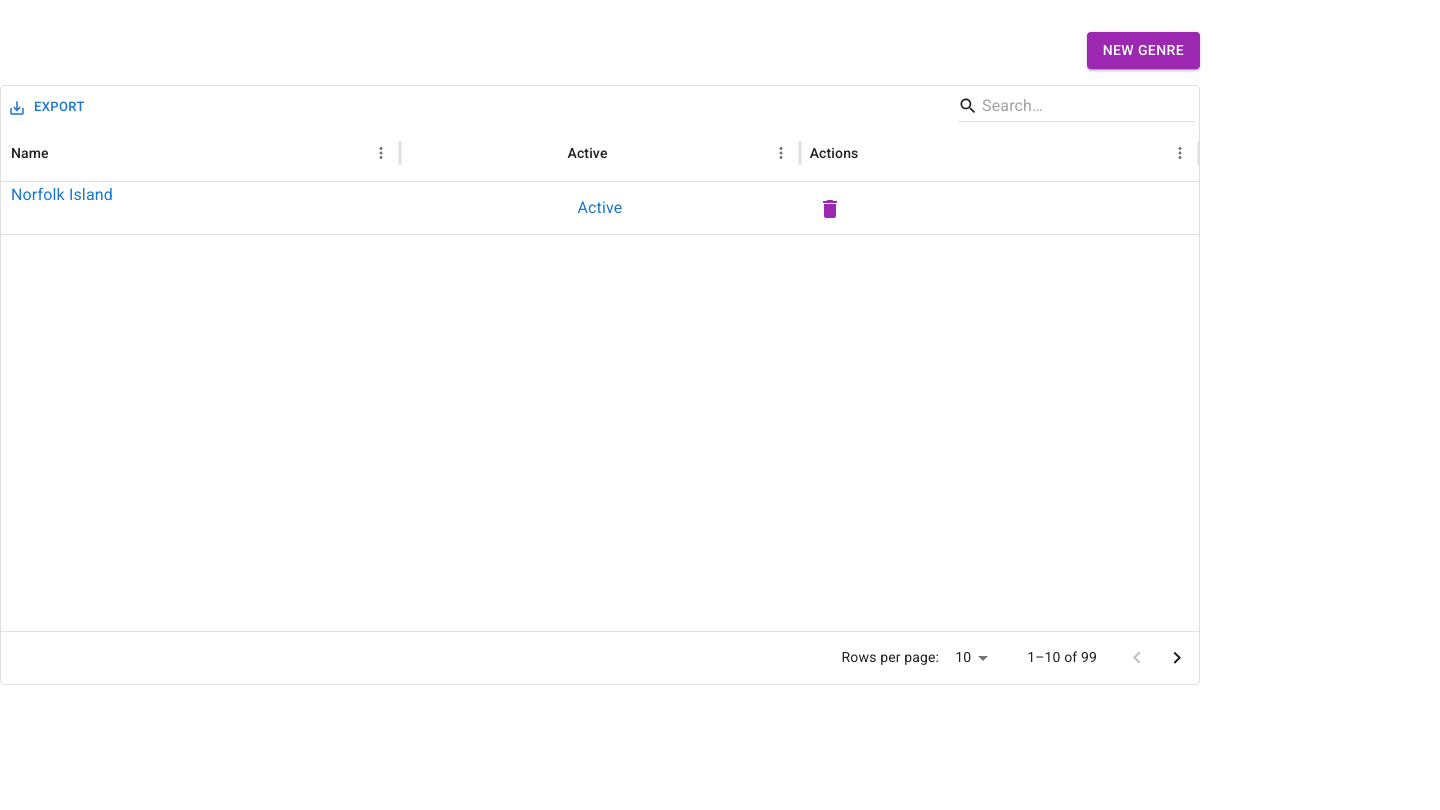
Test case: GenreList › should handle Delete Genre success
The width and height of the screenshot is (1440, 810).
Expected: the text "Norfolk Island" is shown, x1=11 y1=184 x2=113 y2=204
Step 1. Click the button with test id "DeleteIcon" → x=830, y=209, box x1=810 y1=189 x2=850 y2=229
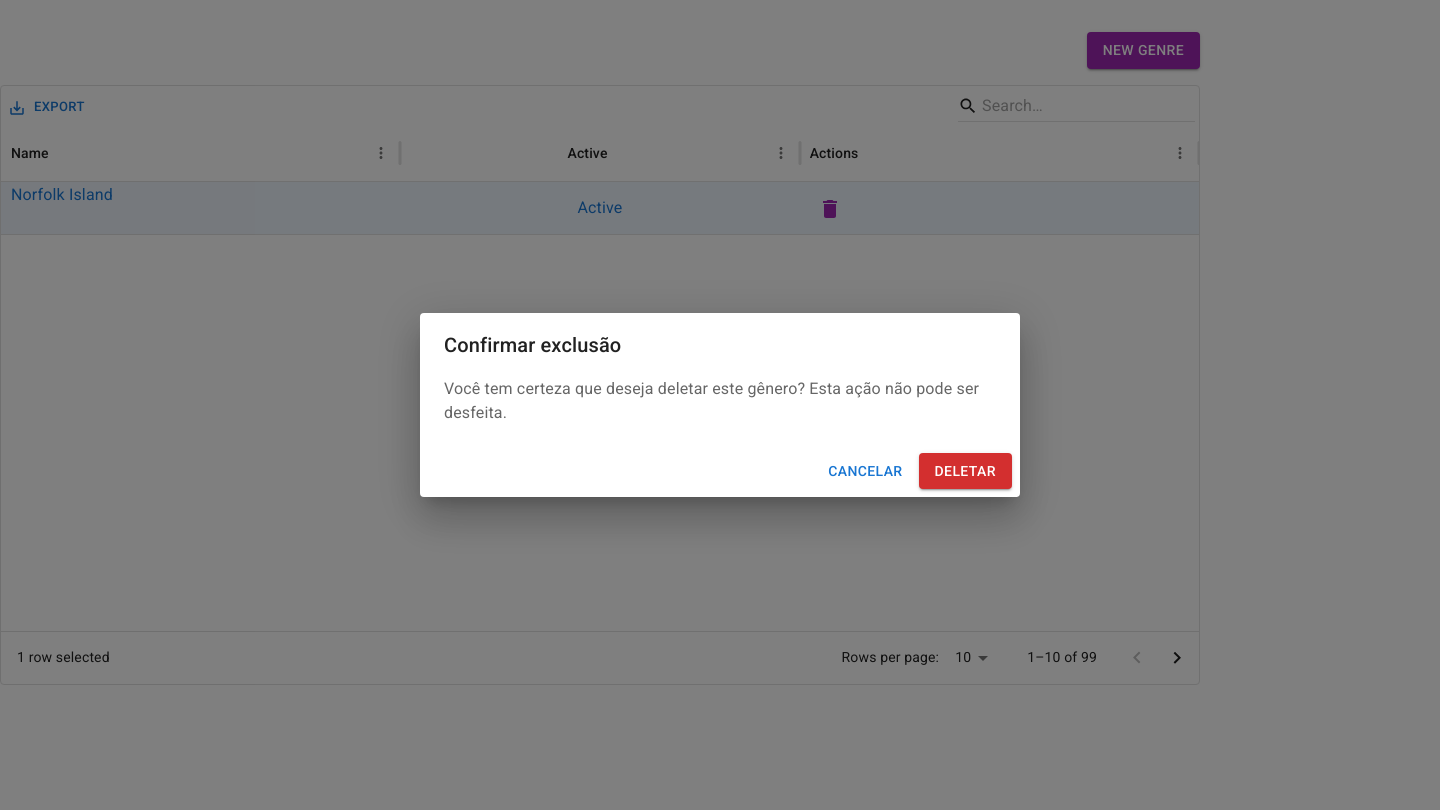
Step 2. Click the button "Deletar" → x=965, y=471, box x1=918 y1=453 x2=1012 y2=489
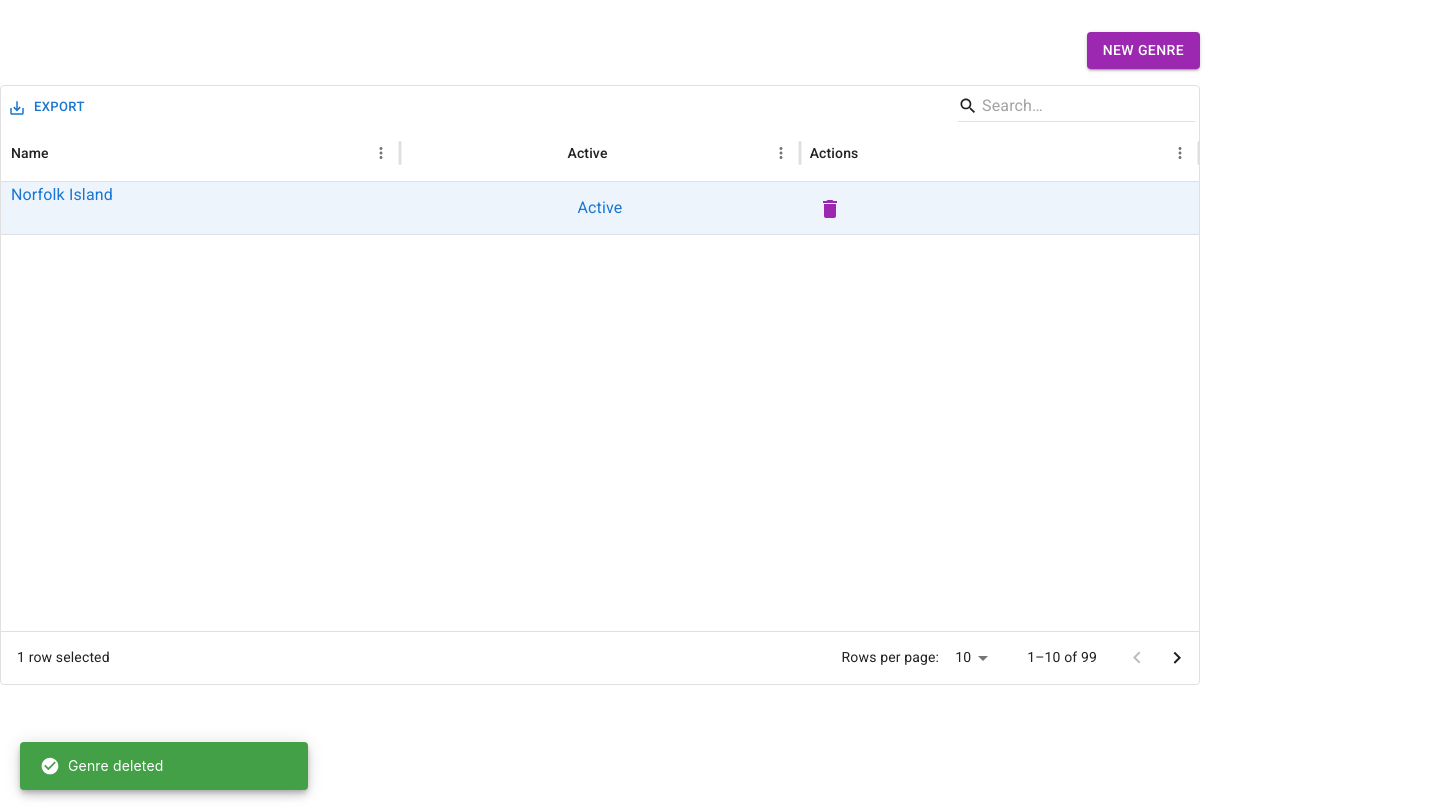
Expected: the text "Genre deleted" is shown, x1=40 y1=756 x2=163 y2=776
